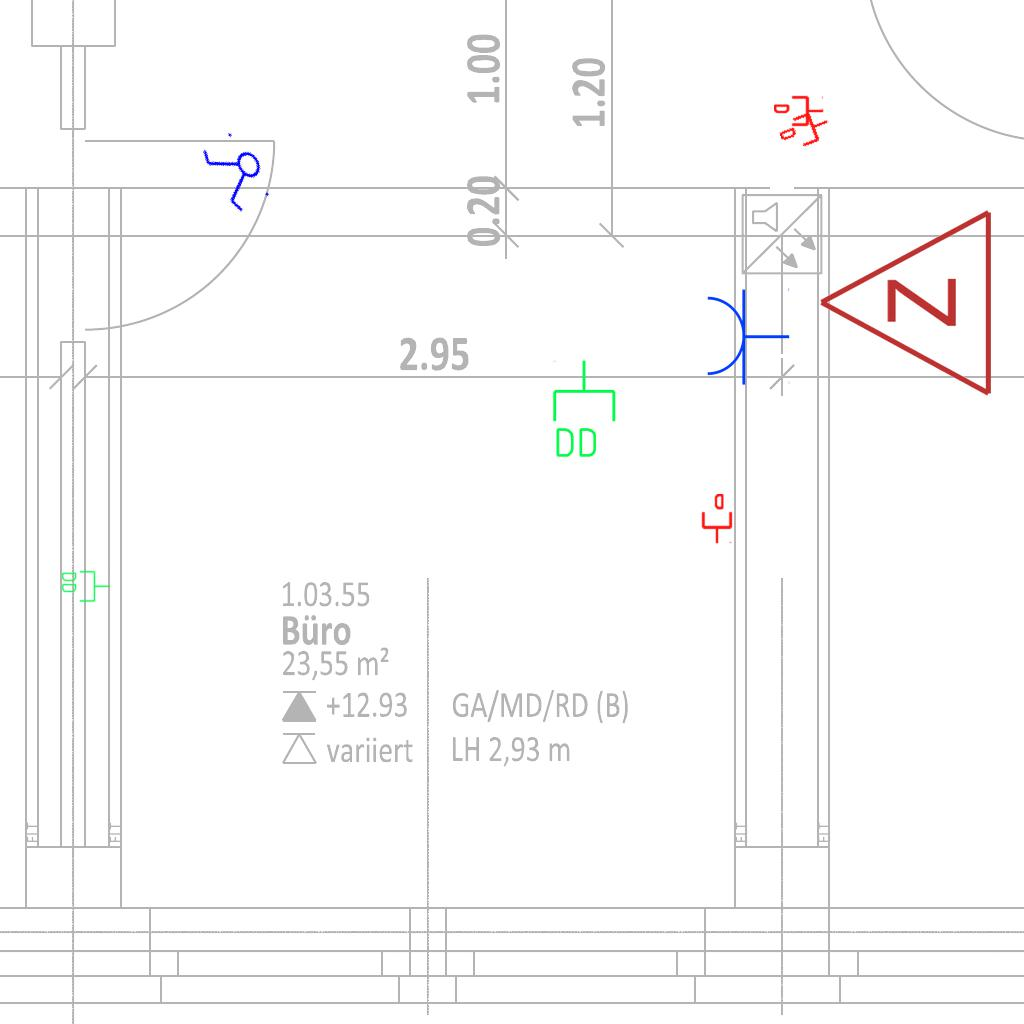Datenanschluss_einfach: (775, 105, 835, 155), (774, 94, 824, 128), (700, 494, 734, 544)
Datenanschluss_zweifach: (549, 358, 618, 461), (60, 569, 111, 603)
Schukosteckdose_einfach: (703, 286, 790, 386)
Serienschalter: (195, 123, 281, 221)
Zimmersignalleuchte: (806, 207, 1006, 403)
